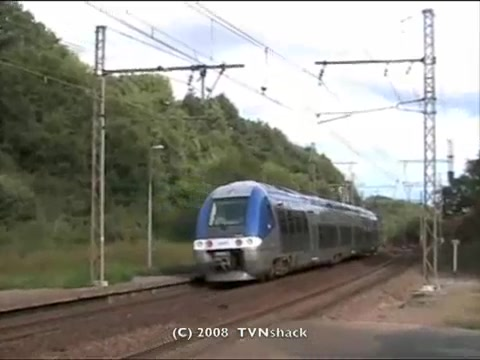train: (191, 179, 386, 289)
